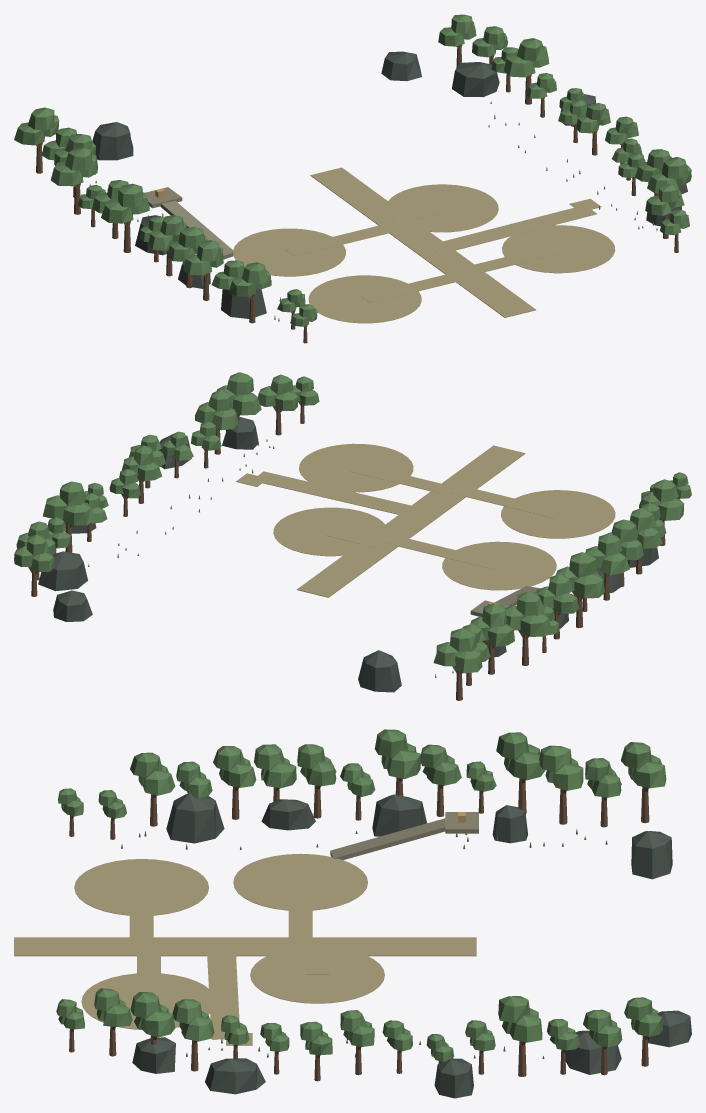
File: Grounds_IronLowlands.glb
The picture shows the model from 3 angles, top to bottom: view 1: azimuth 30°, elevation 25°; view 2: azimuth 150°, elevation 25°; view 3: azimuth 270°, elevation 25°; orthographic projection. The views are drawn at different scales.
Parts seen in each view (by area): view 1: Grounds_IronLowlands_IronLowlands_path_0_3, Grounds_IronLowlands_IronLowlands_path_-1_3, Grounds_IronLowlands_IronLowlands_leaf_-2_4, Grounds_IronLowlands_IronLowlands_leaf_-2_3, Grounds_IronLowlands_IronLowlands_leaf_1_4, Grounds_IronLowlands_IronLowlands_leaf_1_3, Grounds_IronLowlands_IronLowlands_path_0_4, Grounds_IronLowlands_IronLowlands_dark_1_4, Grounds_IronLowlands_IronLowlands_leaf_-2_5, Grounds_IronLowlands_IronLowlands_dark_-1_5, Grounds_IronLowlands_IronLowlands_leaf_1_5, Grounds_IronLowlands_IronLowlands_dark_-2_3 (+7 smaller); view 2: Grounds_IronLowlands_IronLowlands_path_0_3, Grounds_IronLowlands_IronLowlands_path_-1_3, Grounds_IronLowlands_IronLowlands_leaf_-2_4, Grounds_IronLowlands_IronLowlands_leaf_1_4, Grounds_IronLowlands_IronLowlands_leaf_1_3, Grounds_IronLowlands_IronLowlands_leaf_-2_3, Grounds_IronLowlands_IronLowlands_path_0_4, Grounds_IronLowlands_IronLowlands_leaf_-2_5, Grounds_IronLowlands_IronLowlands_dark_1_4, Grounds_IronLowlands_IronLowlands_dark_-1_5, Grounds_IronLowlands_IronLowlands_leaf_1_5, Grounds_IronLowlands_IronLowlands_dark_1_3 (+5 smaller); view 3: Grounds_IronLowlands_IronLowlands_path_0_3, Grounds_IronLowlands_IronLowlands_path_-1_3, Grounds_IronLowlands_IronLowlands_leaf_-2_4, Grounds_IronLowlands_IronLowlands_leaf_-2_3, Grounds_IronLowlands_IronLowlands_leaf_1_4, Grounds_IronLowlands_IronLowlands_leaf_1_3, Grounds_IronLowlands_IronLowlands_dark_-2_3, Grounds_IronLowlands_IronLowlands_dark_1_3, Grounds_IronLowlands_IronLowlands_path_0_4, Grounds_IronLowlands_IronLowlands_dark_1_4, Grounds_IronLowlands_IronLowlands_stone_-1_4, Grounds_IronLowlands_IronLowlands_leaf_-2_5 (+11 smaller).
Part boxes in pixels (left/top/right/bottom): Grounds_IronLowlands_IronLowlands_path_0_3: left=376, top=184, right=615, bottom=317; Grounds_IronLowlands_IronLowlands_path_-1_3: left=233, top=221, right=471, bottom=323; Grounds_IronLowlands_IronLowlands_leaf_-2_4: left=51, top=127, right=164, bottom=241; Grounds_IronLowlands_IronLowlands_leaf_-2_3: left=148, top=215, right=271, bottom=296; Grounds_IronLowlands_IronLowlands_leaf_1_4: left=483, top=26, right=610, bottom=133; Grounds_IronLowlands_IronLowlands_leaf_1_3: left=605, top=116, right=691, bottom=207; Grounds_IronLowlands_IronLowlands_path_0_4: left=310, top=167, right=402, bottom=223; Grounds_IronLowlands_IronLowlands_dark_1_4: left=452, top=62, right=595, bottom=125; Grounds_IronLowlands_IronLowlands_leaf_-2_5: left=14, top=107, right=65, bottom=160; Grounds_IronLowlands_IronLowlands_dark_-1_5: left=92, top=122, right=133, bottom=160; Grounds_IronLowlands_IronLowlands_leaf_1_5: left=438, top=14, right=508, bottom=57; Grounds_IronLowlands_IronLowlands_dark_-2_3: left=178, top=261, right=266, bottom=318; Grounds_IronLowlands_IronLowlands_path_0_3: left=236, top=443, right=525, bottom=556; Grounds_IronLowlands_IronLowlands_path_-1_3: left=383, top=485, right=615, bottom=590; Grounds_IronLowlands_IronLowlands_leaf_-2_4: left=462, top=552, right=604, bottom=646; Grounds_IronLowlands_IronLowlands_leaf_1_4: left=28, top=445, right=161, bottom=566; Grounds_IronLowlands_IronLowlands_leaf_1_3: left=129, top=372, right=278, bottom=466; Grounds_IronLowlands_IronLowlands_leaf_-2_3: left=585, top=479, right=684, bottom=575; Grounds_IronLowlands_IronLowlands_path_0_4: left=296, top=543, right=395, bottom=597; Grounds_IronLowlands_IronLowlands_leaf_-2_5: left=433, top=628, right=490, bottom=673; Grounds_IronLowlands_IronLowlands_dark_1_4: left=38, top=523, right=96, bottom=591; Grounds_IronLowlands_IronLowlands_dark_-1_5: left=358, top=650, right=401, bottom=692; Grounds_IronLowlands_IronLowlands_leaf_1_5: left=14, top=532, right=55, bottom=571; Grounds_IronLowlands_IronLowlands_dark_1_3: left=159, top=417, right=258, bottom=469; Grounds_IronLowlands_IronLowlands_path_0_3: left=14, top=937, right=384, bottom=1045; Grounds_IronLowlands_IronLowlands_path_-1_3: left=74, top=853, right=367, bottom=946; Grounds_IronLowlands_IronLowlands_leaf_-2_4: left=340, top=729, right=612, bottom=834; Grounds_IronLowlands_IronLowlands_leaf_-2_3: left=130, top=744, right=336, bottom=798; Grounds_IronLowlands_IronLowlands_leaf_1_4: left=340, top=996, right=611, bottom=1061; Grounds_IronLowlands_IronLowlands_leaf_1_3: left=103, top=992, right=332, bottom=1054; Grounds_IronLowlands_IronLowlands_dark_-2_3: left=166, top=793, right=315, bottom=843; Grounds_IronLowlands_IronLowlands_dark_1_3: left=132, top=1037, right=265, bottom=1094; Grounds_IronLowlands_IronLowlands_path_0_4: left=320, top=937, right=476, bottom=956; Grounds_IronLowlands_IronLowlands_dark_1_4: left=434, top=1030, right=621, bottom=1098; Grounds_IronLowlands_IronLowlands_stone_-1_4: left=330, top=812, right=478, bottom=860; Grounds_IronLowlands_IronLowlands_leaf_-2_5: left=587, top=742, right=666, bottom=797.
Size of the model in its own units: 294 by 42.9 by 281.
